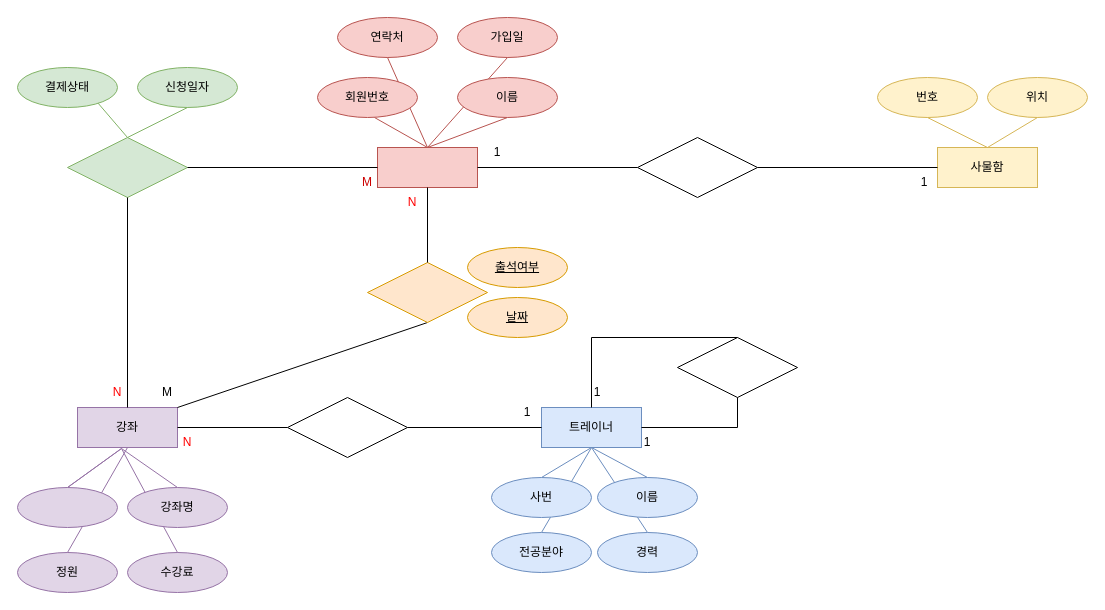
Image size: 1105x610. Some labels were removed from this diagram. The centre of each missing label's shape, as x and y in pixels:
"강좌코드" goes at (67,507).
"관리" goes at (737,367).
"담당" goes at (347,427).
"배정" goes at (697,167).
"신청" goes at (127,167).
"출석" goes at (427,292).
"회원" goes at (427,167).
